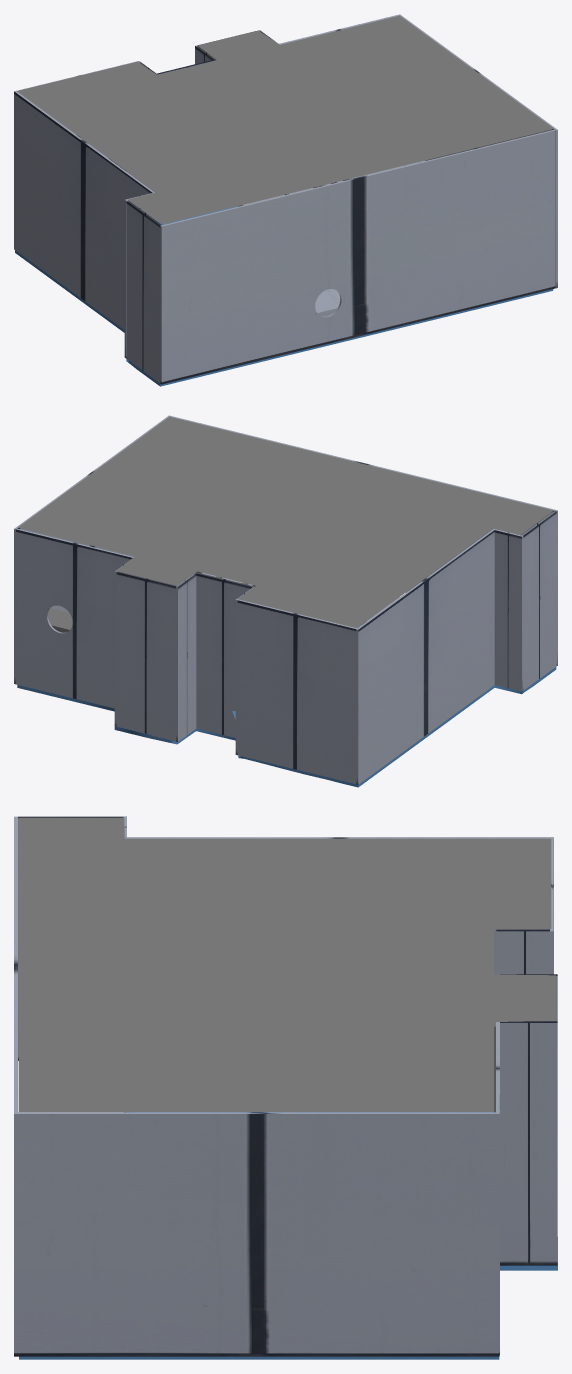
File: portal1.obj
3 renders of one model, top to bottom at view 1: azimuth 30°, elevation 25°; view 2: azimuth 150°, elevation 25°; view 3: azimuth 270°, elevation 25°, orthographic. The views are drawn at different scales.
Parts seen in each view (by area): view 1: murs mur_bas, plafond murs, murs mur_gauche, eau, murs mur_droite, murs mur_haute, pf_principale plateforme; view 2: plafond murs, murs mur_haute, murs mur_gauche, eau, murs mur_bas, murs mur_droite, plateforme pf_porte_sortie; view 3: plafond murs, murs mur_droite, murs mur_haute, eau, murs mur_gauche, murs mur_bas.
Part boxes in pixels (x1,y1,x2,y2): murs mur_bas: [160, 129, 555, 384]; plafond murs: [17, 16, 553, 224]; murs mur_gauche: [14, 91, 162, 382]; eau: [15, 206, 553, 386]; murs mur_droite: [398, 14, 557, 288]; murs mur_haute: [16, 15, 398, 158]; pf_principale plateforme: [238, 160, 424, 316]; plafond murs: [18, 416, 553, 627]; murs mur_haute: [16, 528, 356, 783]; murs mur_gauche: [356, 511, 556, 784]; eau: [17, 584, 556, 787]; murs mur_bas: [170, 416, 557, 665]; murs mur_droite: [14, 415, 170, 684]; plateforme pf_porte_sortie: [48, 608, 72, 632]; plafond murs: [18, 817, 555, 1111]; murs mur_droite: [14, 1112, 499, 1356]; murs mur_haute: [496, 839, 557, 1354]; eau: [19, 1112, 557, 1359]; murs mur_gauche: [18, 816, 553, 1060]; murs mur_bas: [14, 816, 17, 1112].
Bounding box in the file's own units: 523 × 204 × 404.
